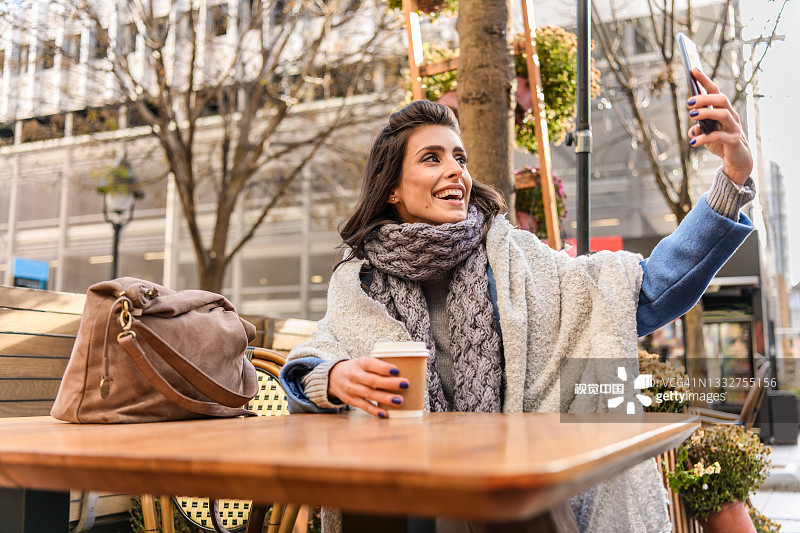no-phone: (323, 333, 432, 425)
taking photos: (661, 42, 759, 194)
